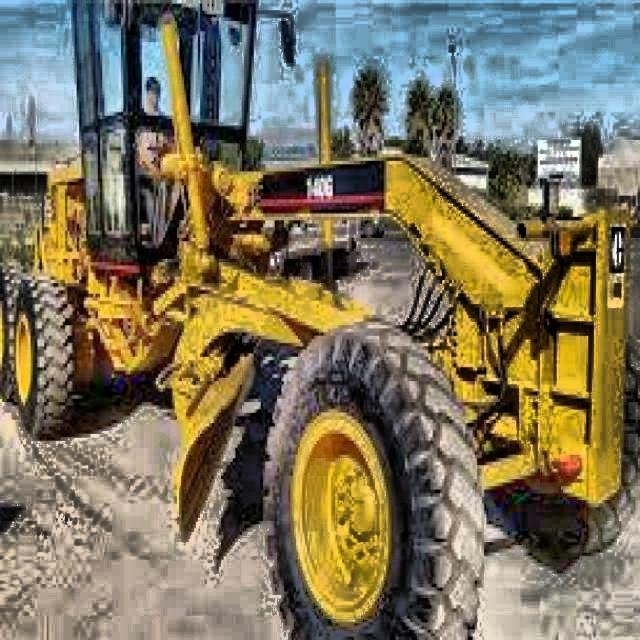bull_dozer/loader/grader: (0, 0, 640, 640)
person: (138, 75, 179, 174)
